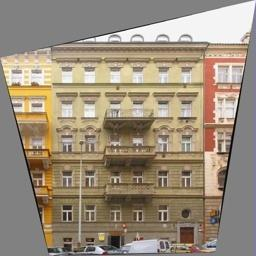building: (43, 29, 205, 243)
